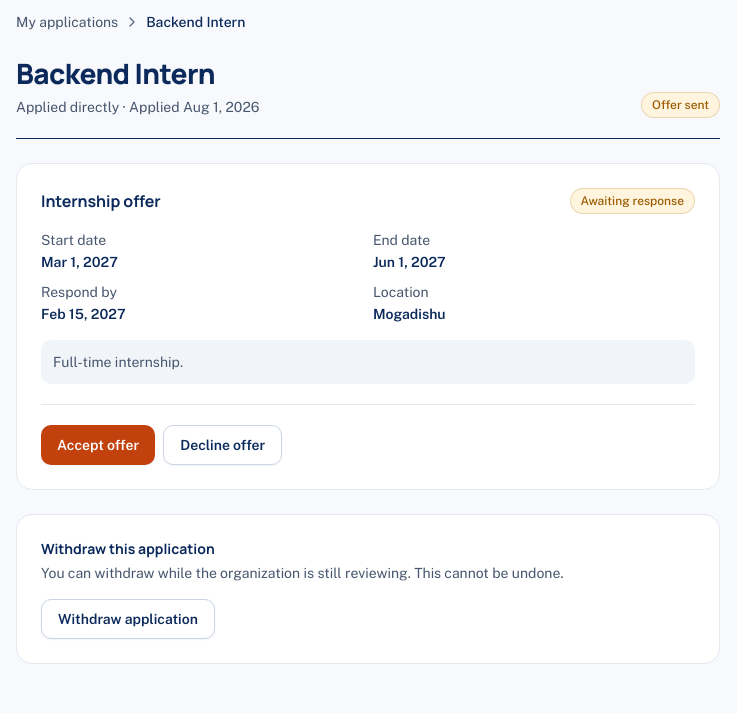
Test case: CandidacyDetailPage › renders an expired-offer error from its backend code
Expected: the heading "Backend Intern" is shown, top-left (16, 54), bottom-right (215, 92)
Click the button "Accept offer".
click(98, 445)  # box top-left (41, 425), bottom-right (155, 465)
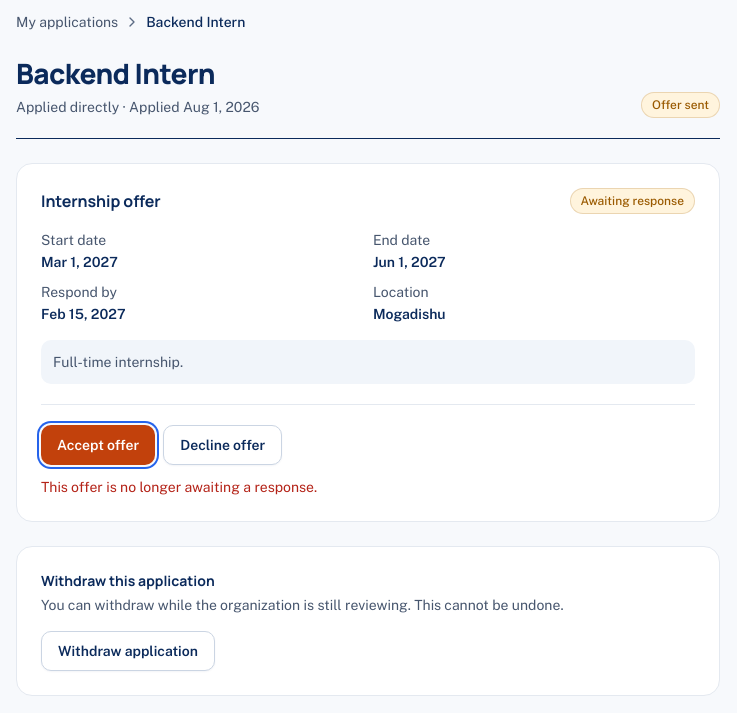
Result: the message shows "no longer awaiting a response" at top-left (41, 479), bottom-right (317, 495)
